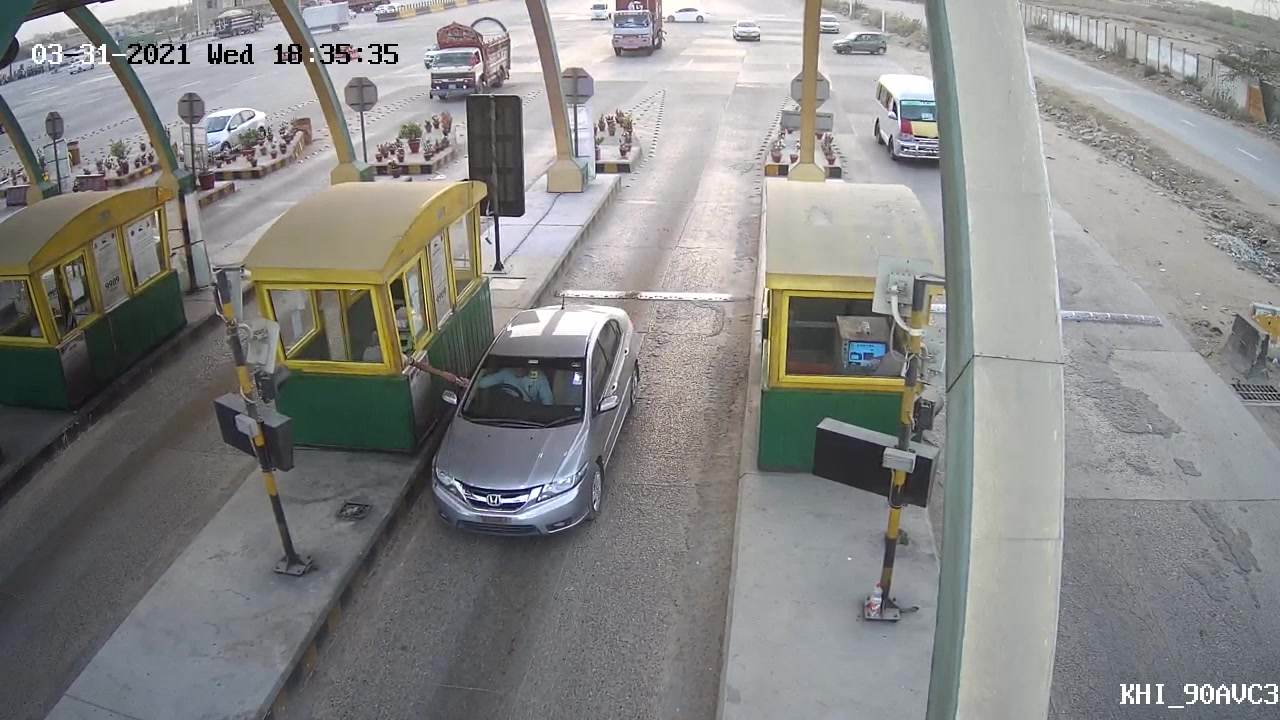F1: (418, 294, 657, 542)
